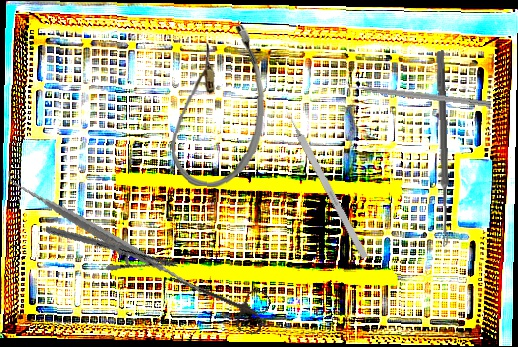Cannula: (168, 21, 269, 190)
Chopper: (341, 74, 493, 108)
Hook Surgical: (282, 106, 369, 260)
Iris Scissors: (161, 259, 274, 337)
Needle Holder: (45, 197, 179, 297)
Spatula Surgical: (6, 141, 201, 328)
Surgical Spoon: (435, 50, 451, 247)
